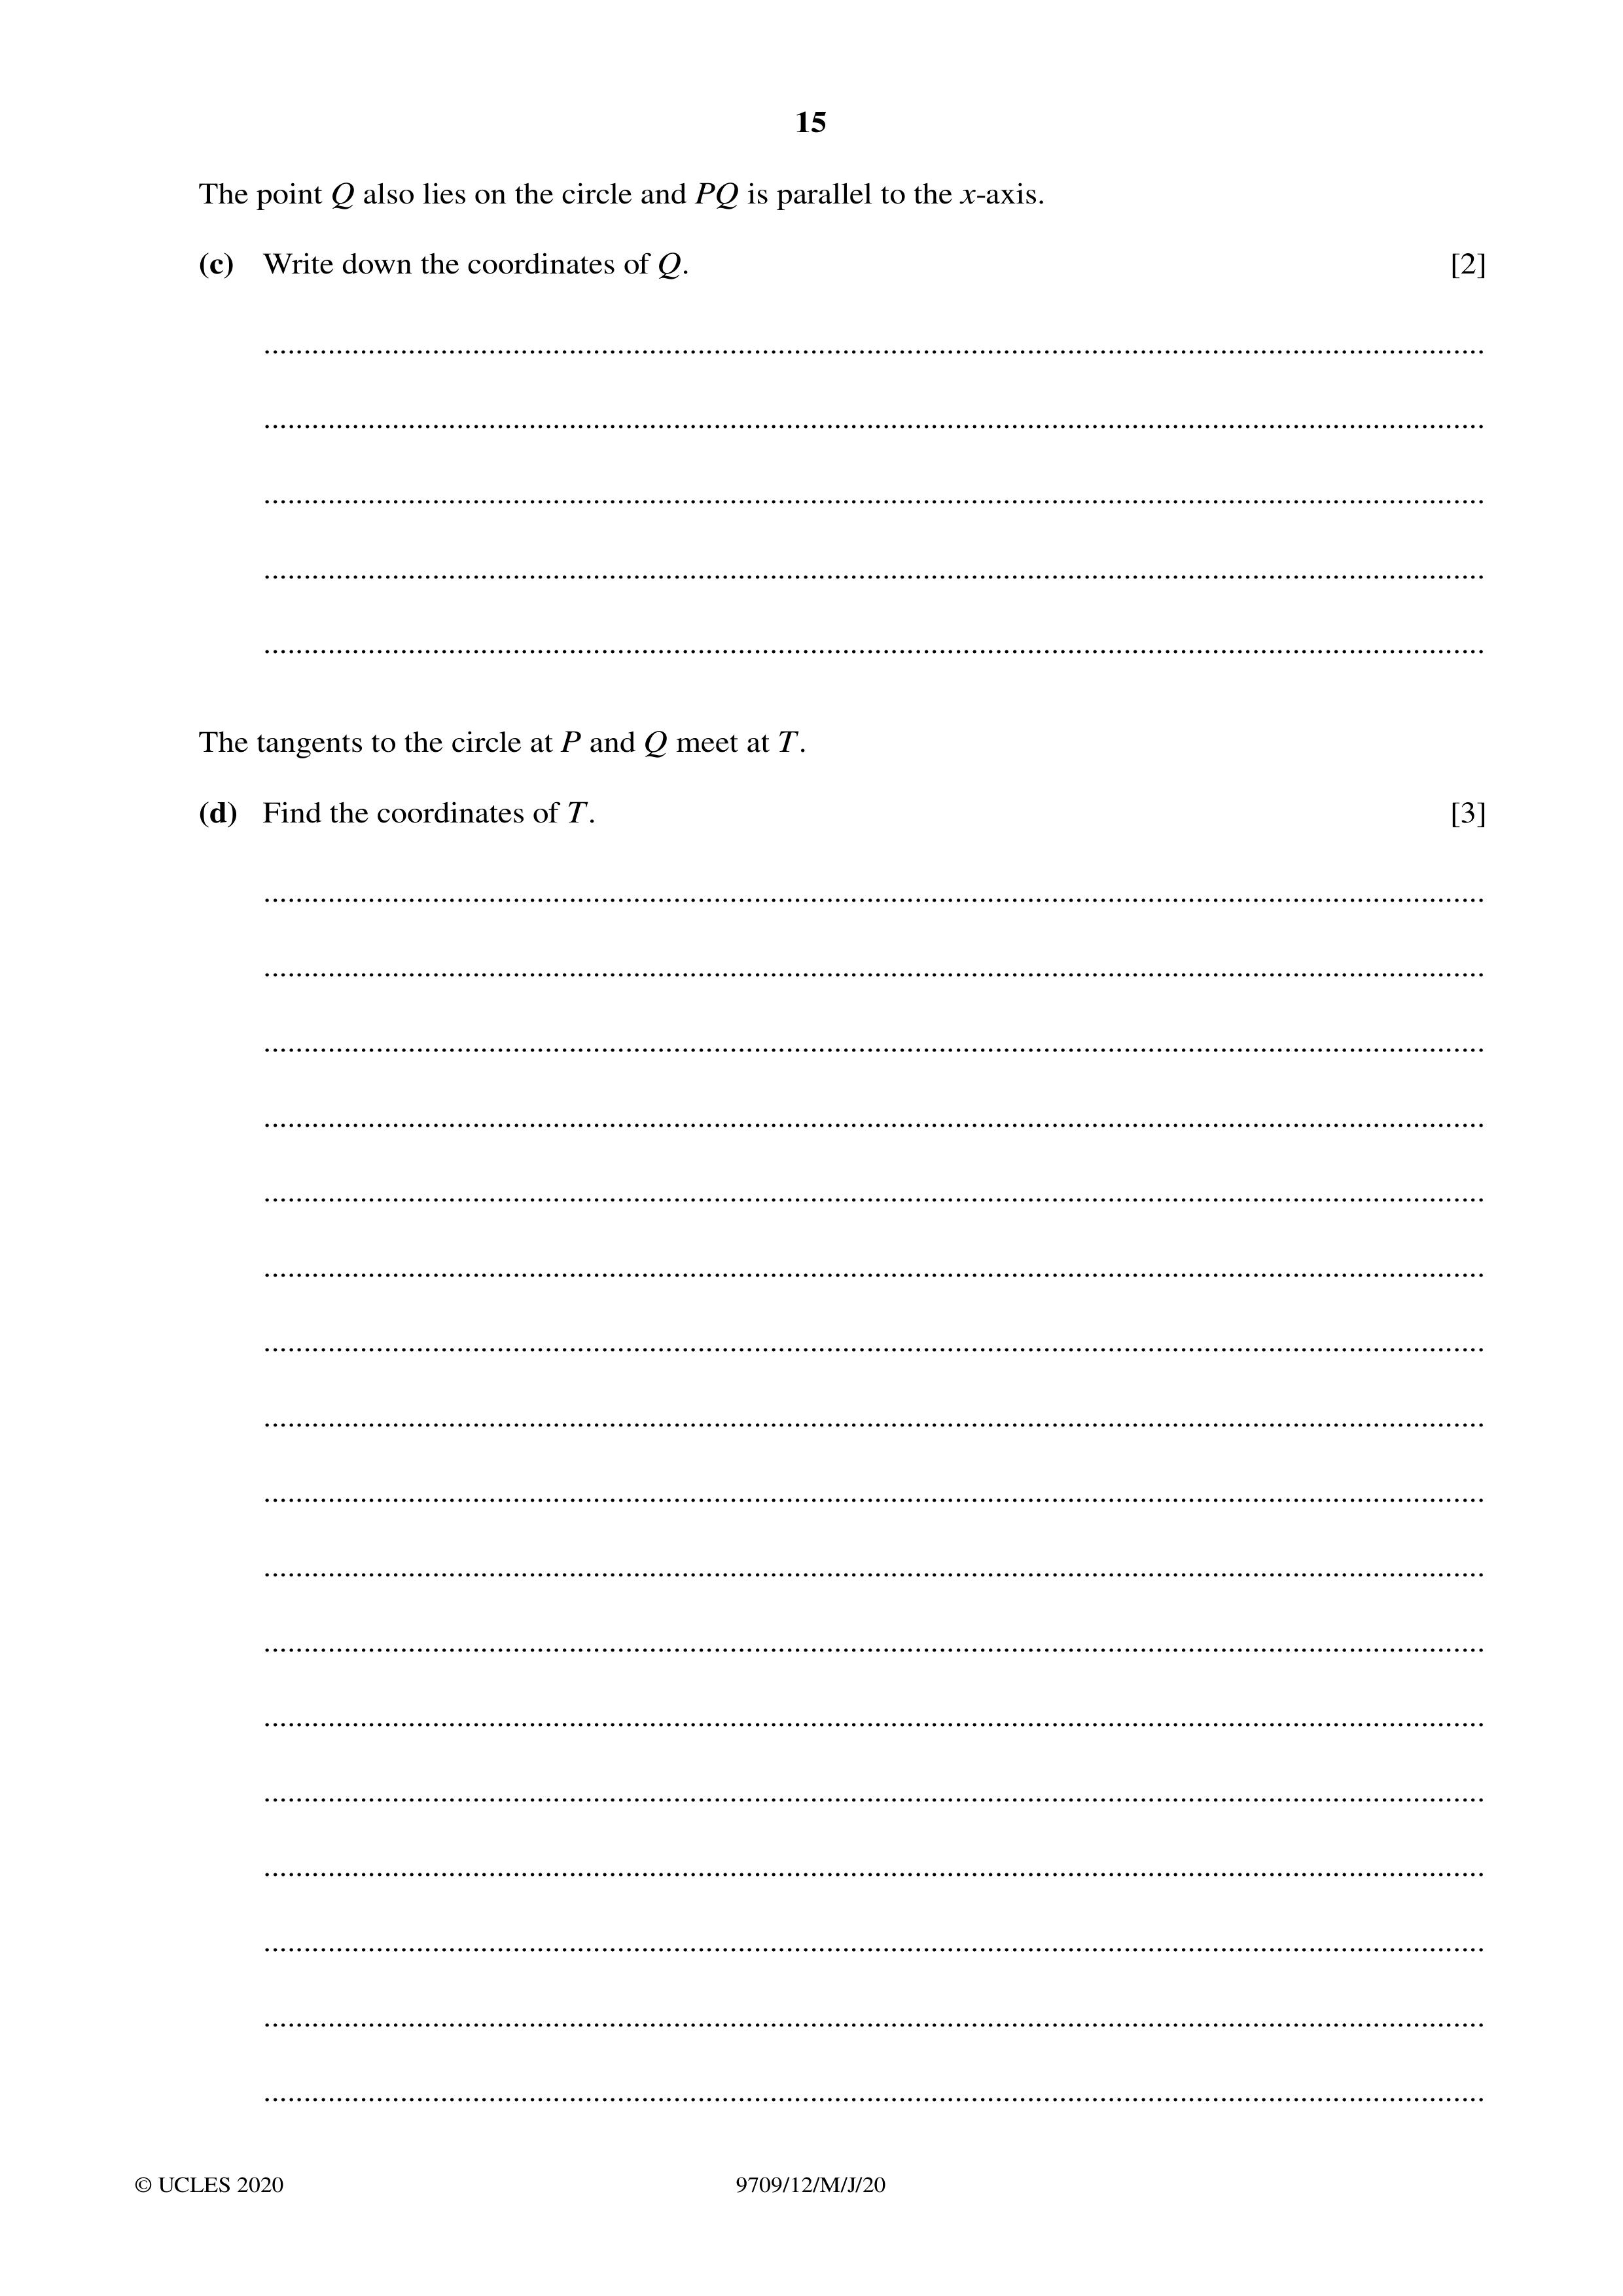question: (148, 681, 1518, 876), (160, 149, 1504, 328)
